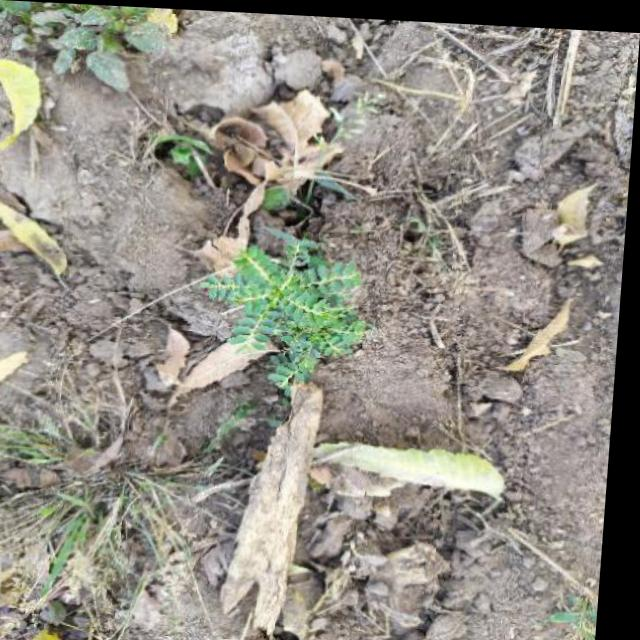weed: (11, 414, 262, 631), (204, 225, 386, 411)
